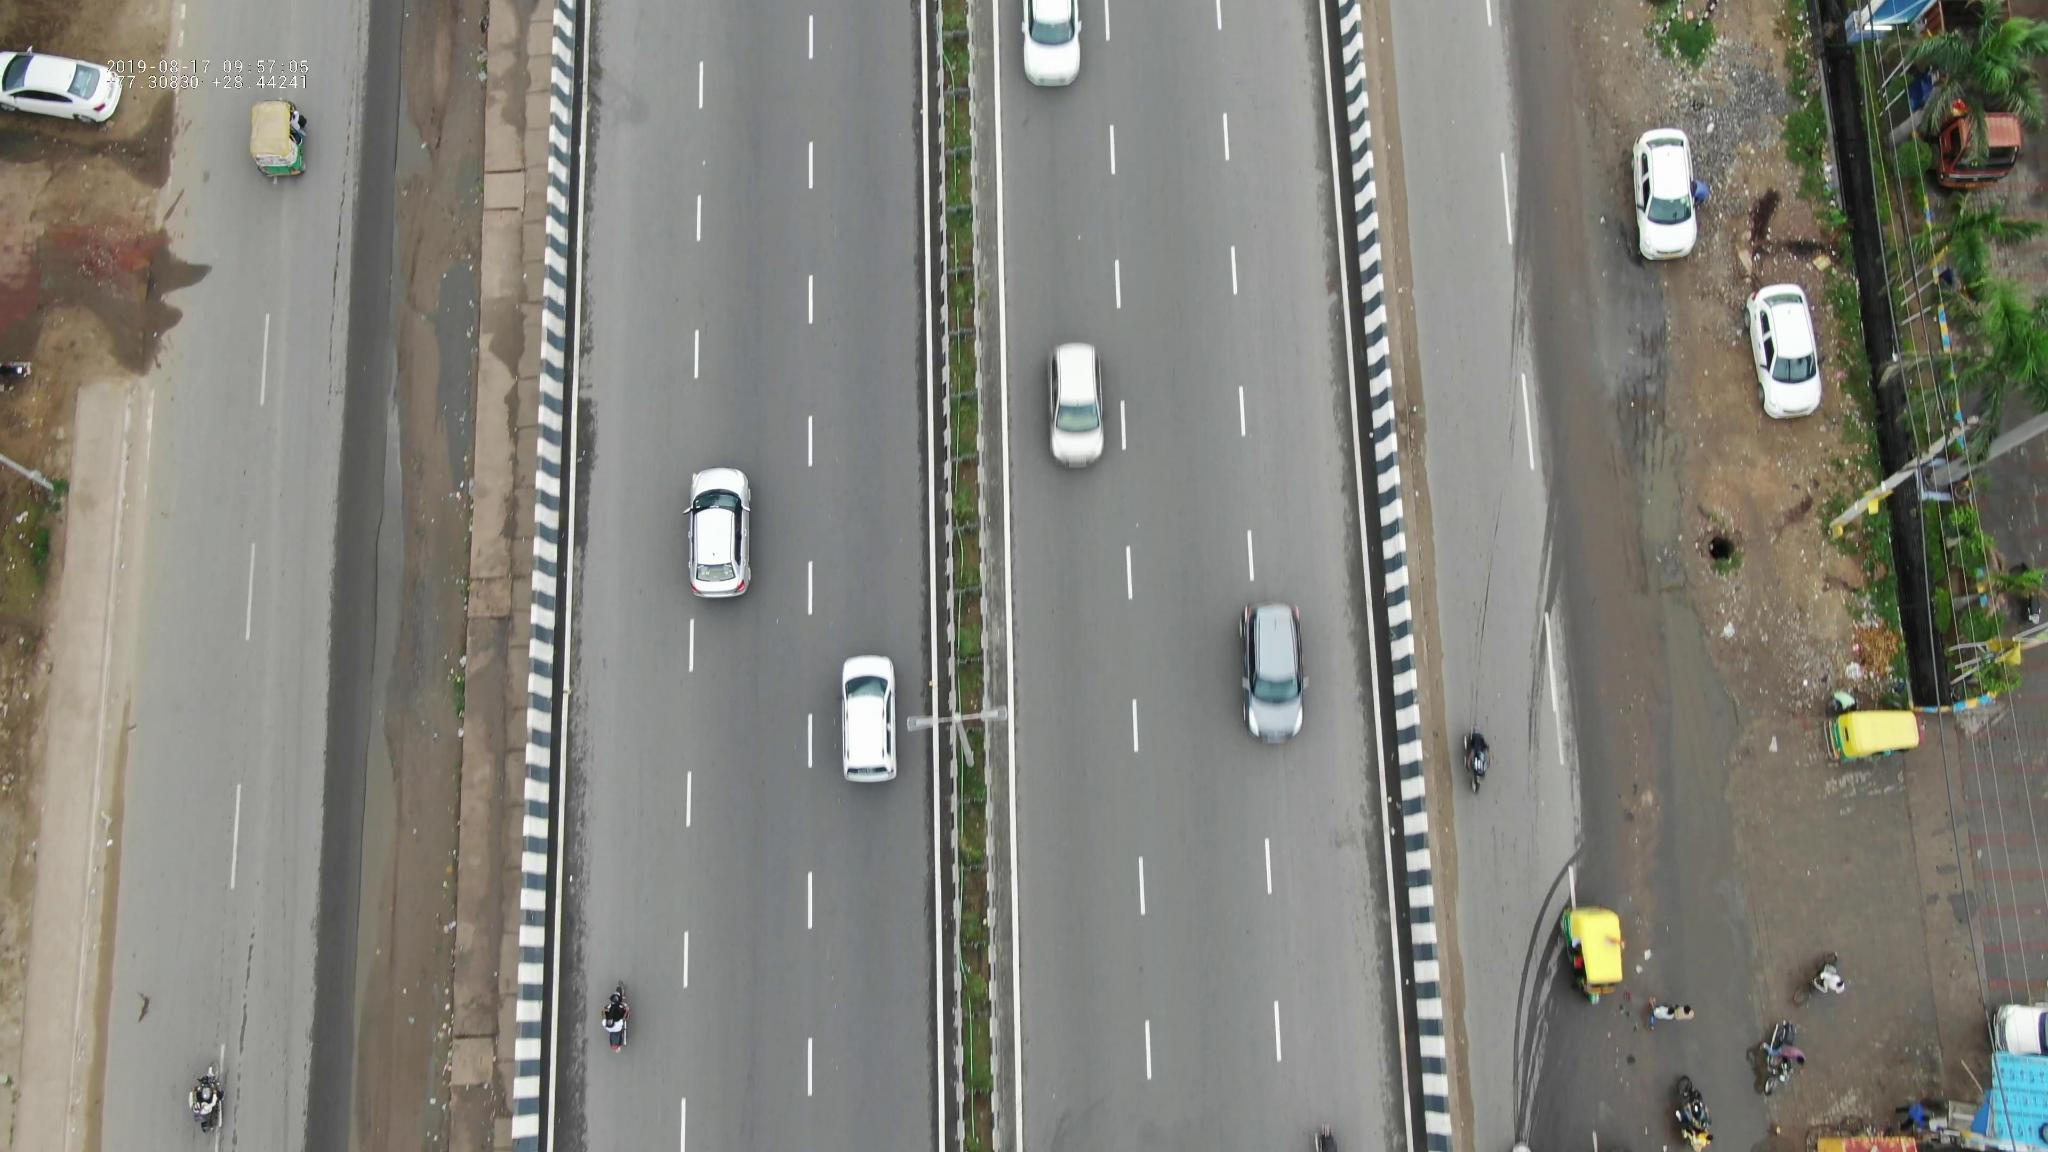Waterlogging: (363, 31, 495, 480), (369, 665, 468, 1104), (1626, 601, 1744, 845)
